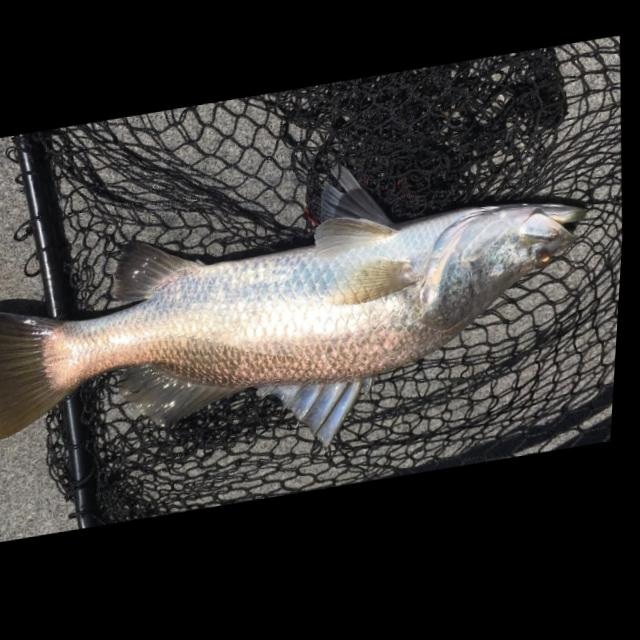Seabass: (0, 115, 609, 508)
